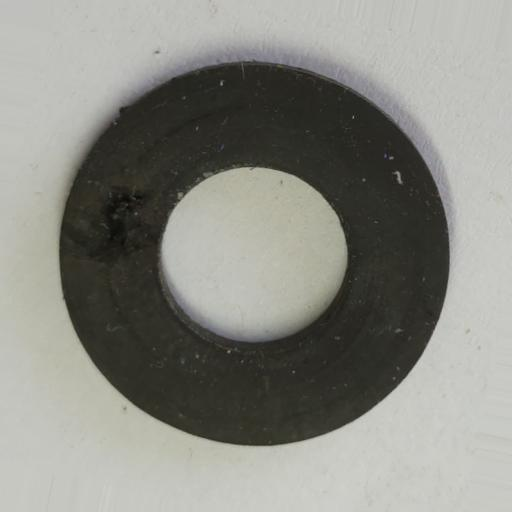defect: (61, 185, 151, 267)
